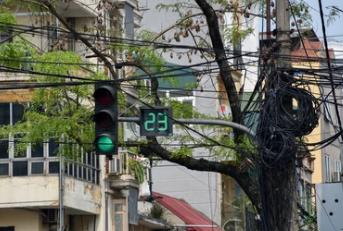green_light: (93, 81, 118, 155)
